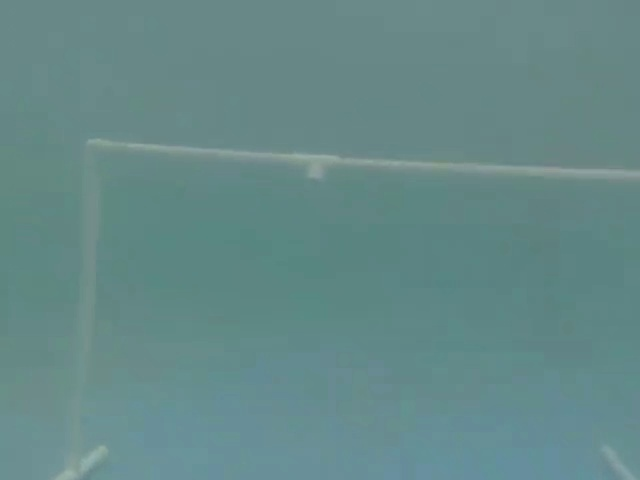gate: (61, 127, 640, 477)
